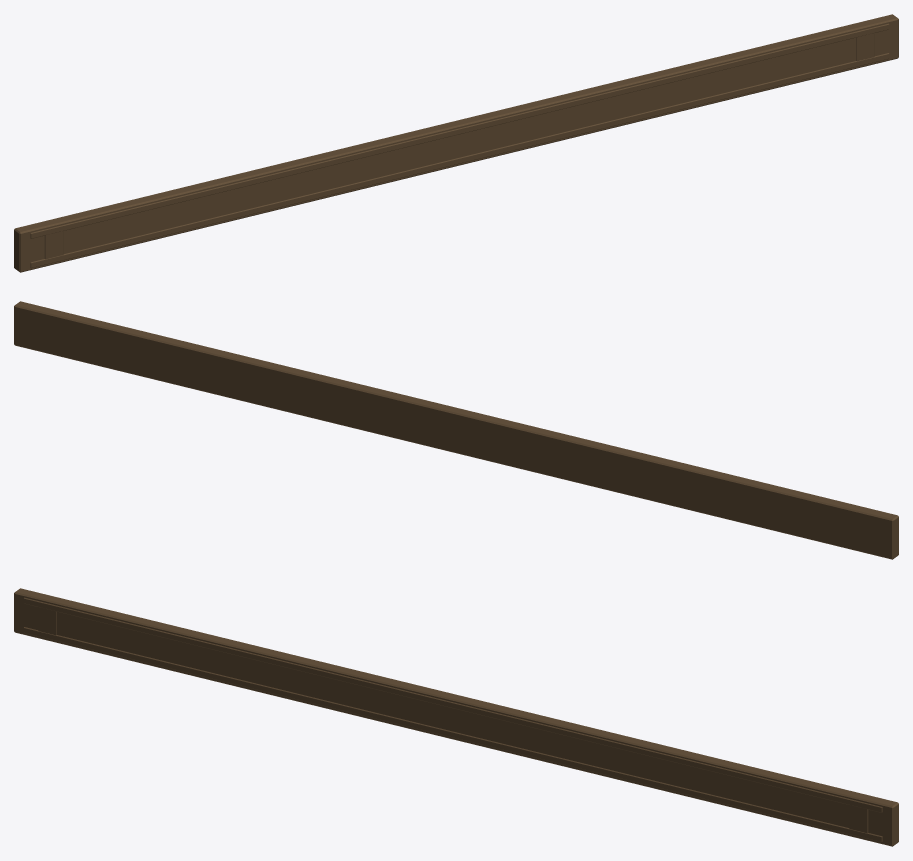
Rendered from passage-header-lod1.fbx.
The picture shows the model from 3 angles, top to bottom: view 1: azimuth 30°, elevation 25°; view 2: azimuth 150°, elevation 25°; view 3: azimuth 330°, elevation 25°; orthographic projection.
Visible parts, largest first — view 1: Eased passage header, Header small profiled bead.001, Header small profiled bead; view 2: Eased passage header; view 3: Eased passage header, Header small profiled bead.001, Header small profiled bead.
Boxes of the visible parts, <box> form: Eased passage header: <box>14,14,898,272</box>; Header small profiled bead.001: <box>30,23,889,238</box>; Header small profiled bead: <box>30,53,889,268</box>; Eased passage header: <box>14,301,898,559</box>; Eased passage header: <box>14,588,898,846</box>; Header small profiled bead.001: <box>23,597,882,812</box>; Header small profiled bead: <box>23,627,882,842</box>.
Bounding box in the file's own units: 295 × 13 × 4.1.
